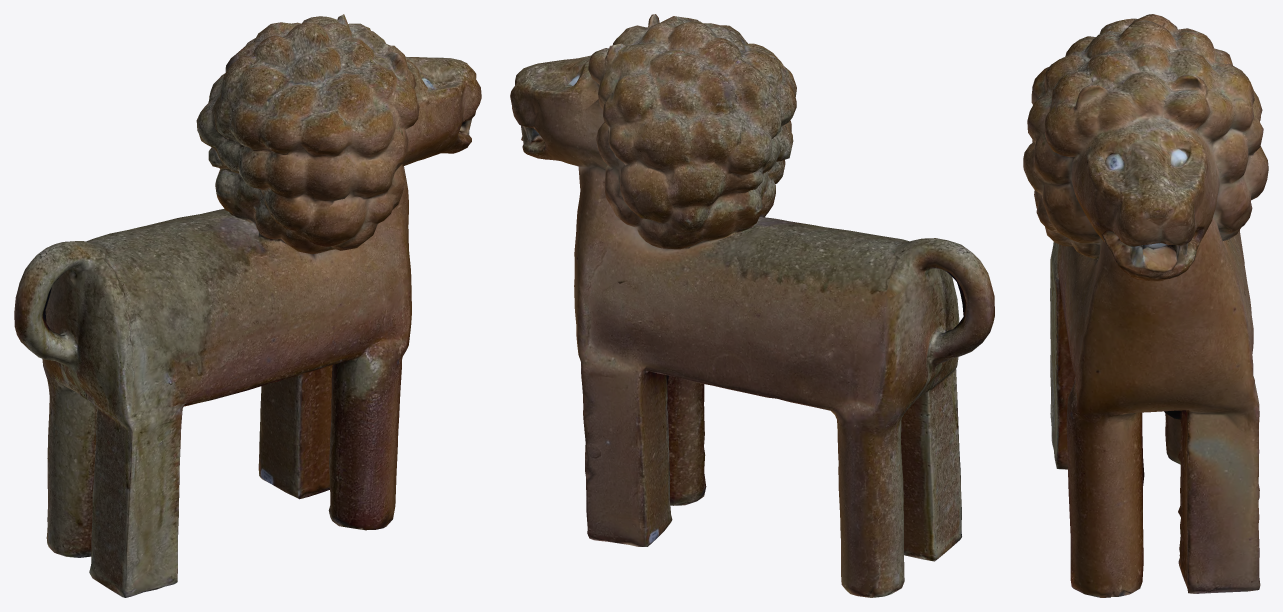
Rendered from lauva-transformed.glb.
The picture shows the model from 3 angles, left to right: view 1: azimuth 30°, elevation 25°; view 2: azimuth 150°, elevation 25°; view 3: azimuth 270°, elevation 25°; orthographic projection. The views are drawn at different scales.
Parts seen in each view (by area): view 1: 4k_t-n; view 2: 4k_t-n; view 3: 4k_t-n.
Boxes of the visible parts, x1,y1,x2,y2 form: 4k_t-n: (14, 14, 481, 597); 4k_t-n: (510, 14, 994, 597); 4k_t-n: (1023, 14, 1268, 597).
Bounding box in the file's own units: 2.78 × 2.8 × 1.15.
Materials: 1 (1 with a texture image).
